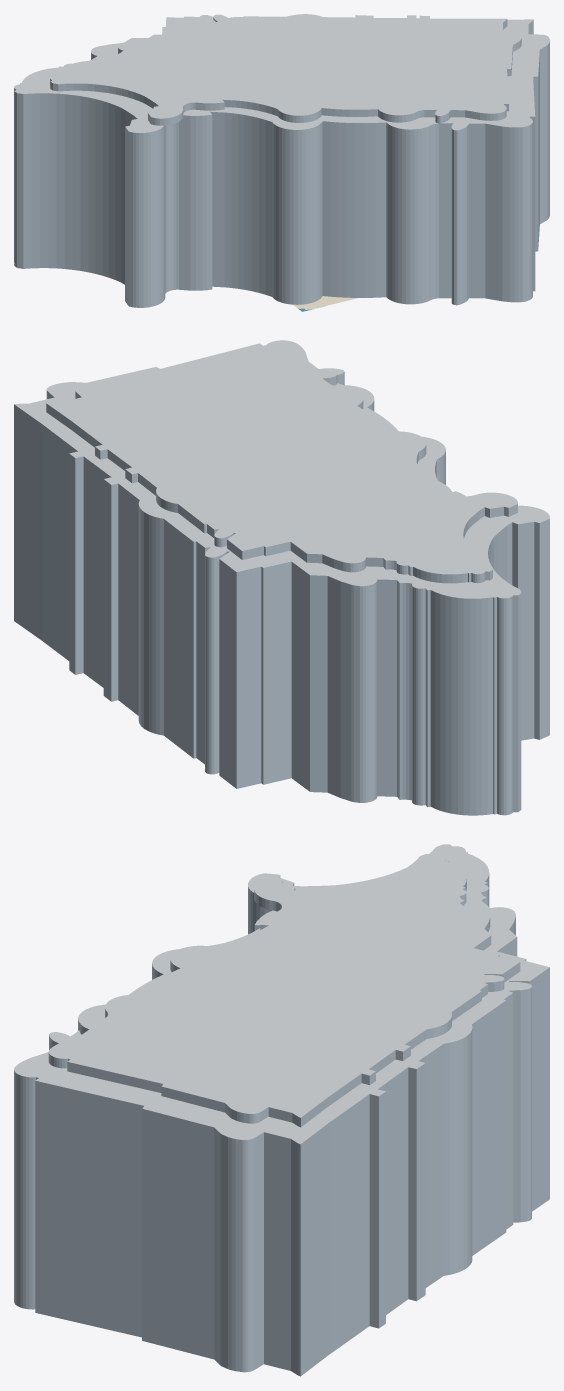
The model's file is tile_0_1_far.glb.
3 views of the same model, one above another, from view 1: azimuth 30°, elevation 25°; view 2: azimuth 150°, elevation 25°; view 3: azimuth 270°, elevation 25° (orthographic). The views are drawn at different scales.
Visible parts, largest first — view 1: buildings_landmark_glass, buildings_landmark_trim, nature_ground; view 2: buildings_landmark_glass, buildings_landmark_trim; view 3: buildings_landmark_glass, buildings_landmark_trim.
Boxes of the visible parts, x1,y1,x2,y2 form: buildings_landmark_glass: (14,17,549,307); buildings_landmark_trim: (14,14,549,132); nature_ground: (293,296,357,309); buildings_landmark_glass: (14,372,549,815); buildings_landmark_trim: (14,340,549,598); buildings_landmark_glass: (14,851,549,1376); buildings_landmark_trim: (14,844,549,1144).
Size of the model in its own units: 804 by 302 by 607.
